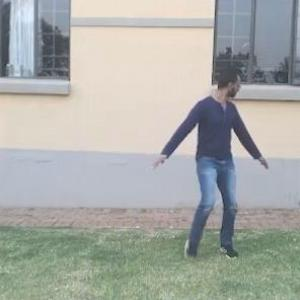land: (154, 52, 275, 262)
